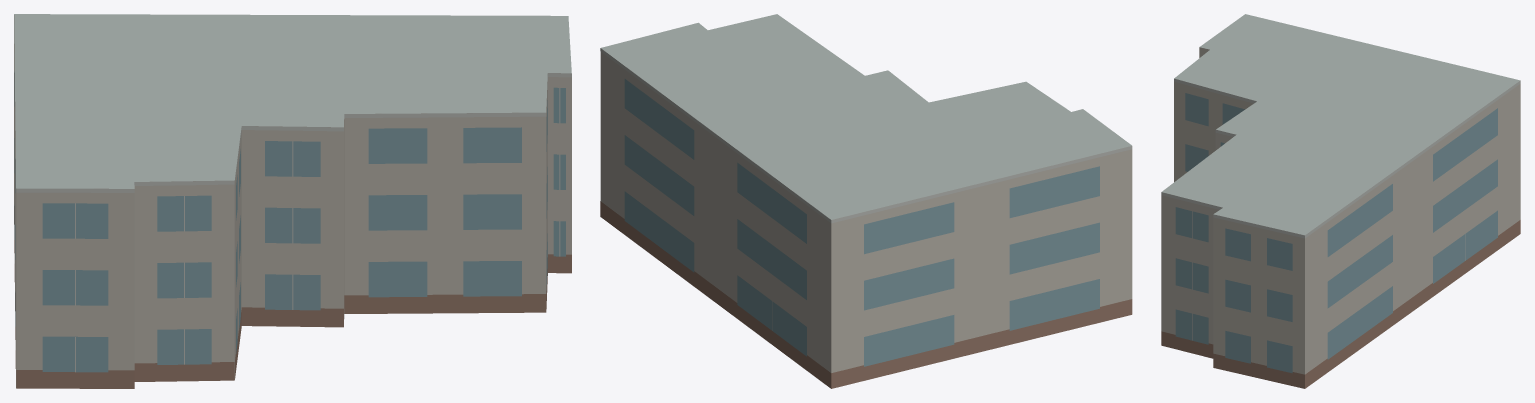
The model's file is survey-upis-32892012.glb.
3 renders of one model, left to right at view 1: azimuth 30°, elevation 25°; view 2: azimuth 150°, elevation 25°; view 3: azimuth 270°, elevation 25°, orthographic. The views are drawn at different scales.
Visible parts, largest first — view 1: survey-upis-32892012.tmp; view 2: survey-upis-32892012.tmp; view 3: survey-upis-32892012.tmp.
Boxes of the visible parts, bbox=[...] form: survey-upis-32892012.tmp: bbox=[14, 14, 571, 388]; survey-upis-32892012.tmp: bbox=[600, 14, 1132, 388]; survey-upis-32892012.tmp: bbox=[1161, 14, 1520, 388].
Size of the model in its own units: 37.06 by 11.98 by 25.41.
